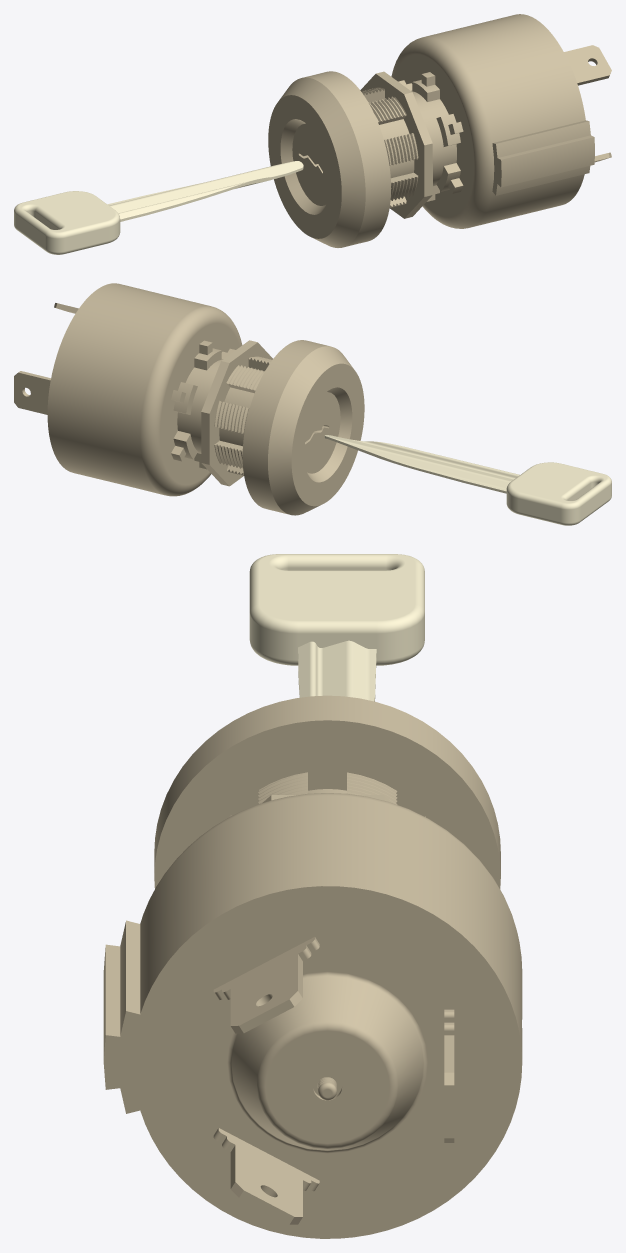
File: Objeto_Switch.glb
3 renders of one model, top to bottom at view 1: azimuth 30°, elevation 25°; view 2: azimuth 150°, elevation 25°; view 3: azimuth 270°, elevation 25°, orthographic. The views are drawn at different scales.
Visible parts, largest first — view 1: Body4, Body1, Body9, Body3, Body2, Body8; view 2: Body4, Body1, Body9, Body3, Body2, Body6; view 3: Body4, Body1, Body9, Body7, Body8, Body2, Body6.
Part boxes in pixels (left/top/right/bottom): Body4: left=391, top=14, right=594, bottom=228; Body1: left=268, top=71, right=391, bottom=247; Body9: left=14, top=161, right=303, bottom=254; Body3: left=360, top=71, right=463, bottom=218; Body2: left=361, top=87, right=418, bottom=207; Body8: left=564, top=45, right=611, bottom=85; Body4: left=47, top=283, right=242, bottom=496; Body1: left=242, top=340, right=364, bottom=515; Body9: left=324, top=435, right=611, bottom=525; Body3: left=171, top=340, right=272, bottom=486; Body2: left=214, top=356, right=271, bottom=475; Body6: left=14, top=371, right=50, bottom=414; Body4: left=103, top=793, right=522, bottom=1238; Body1: left=154, top=695, right=500, bottom=889; Body9: left=249, top=554, right=424, bottom=701; Body7: left=213, top=1128, right=319, bottom=1224; Body8: left=213, top=937, right=319, bottom=1033; Body2: left=229, top=772, right=425, bottom=817; Body6: left=444, top=1009, right=454, bottom=1142.
Size of the model in its own units: 131 by 39.98 by 43.
